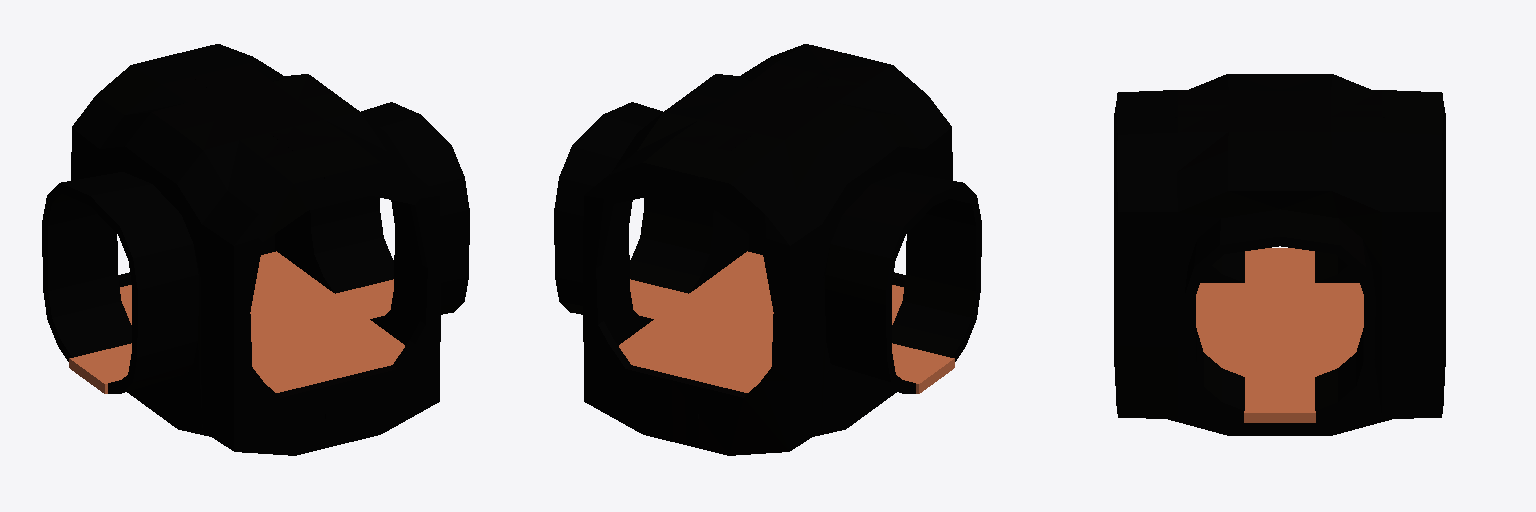
Rendered from hallway1.obj.
3 renders of one model, left to right at view 1: azimuth 30°, elevation 25°; view 2: azimuth 150°, elevation 25°; view 3: azimuth 270°, elevation 25°, orthographic.
Visible parts, largest first — view 1: Cube.006; view 2: Cube.006; view 3: Cube.006.
Part boxes in pixels (bbox=[...]): Cube.006: bbox=[42, 44, 469, 455]; Cube.006: bbox=[554, 44, 981, 455]; Cube.006: bbox=[1114, 74, 1445, 435].
Bounding box in the file's own units: 2.12 × 1.74 × 1.81.